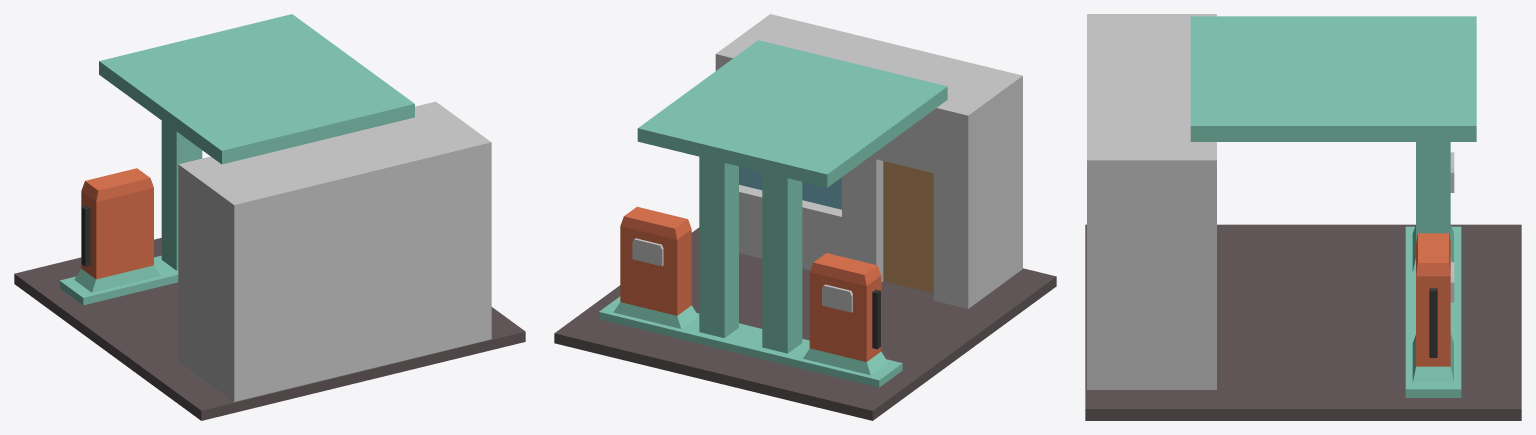
The model's file is GasStation.fbx.
3 renders of one model, left to right at view 1: azimuth 30°, elevation 25°; view 2: azimuth 150°, elevation 25°; view 3: azimuth 270°, elevation 25°, orthographic. The views are drawn at different scales.
Parts seen in each view (by area): view 1: Cube.003, Cube.004, Cube, Cube.001; view 2: Cube.004, Cube.003, Cube, Cube.001; view 3: Cube, Cube.003, Cube.004, Cube.001.
Boxes of the visible parts, <box> form: Cube.003: <box>178,101,491,401</box>; Cube.004: <box>59,14,414,305</box>; Cube: <box>14,238,525,420</box>; Cube.001: <box>74,168,160,292</box>; Cube.004: <box>599,40,947,387</box>; Cube.003: <box>715,14,1022,308</box>; Cube: <box>554,227,1056,420</box>; Cube.001: <box>613,206,887,375</box>; Cube: <box>1085,224,1521,420</box>; Cube.003: <box>1087,14,1216,389</box>; Cube.004: <box>1190,16,1476,397</box>; Cube.001: <box>1412,152,1454,382</box>.
Size of the model in its own units: 1008 by 656 by 1008.
